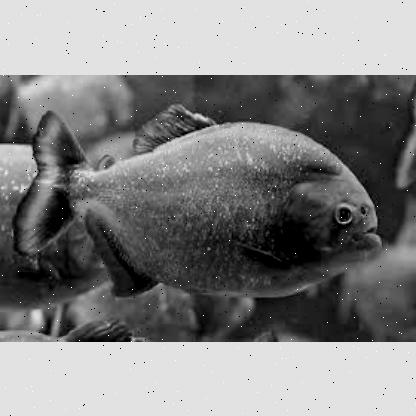ikan-pacu: (51, 112, 382, 296)
